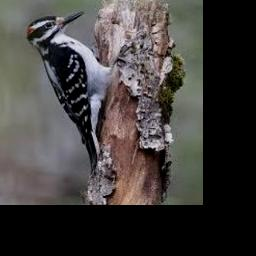Woodpecker: (27, 11, 113, 172)
